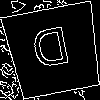D: (29, 25, 74, 78)
